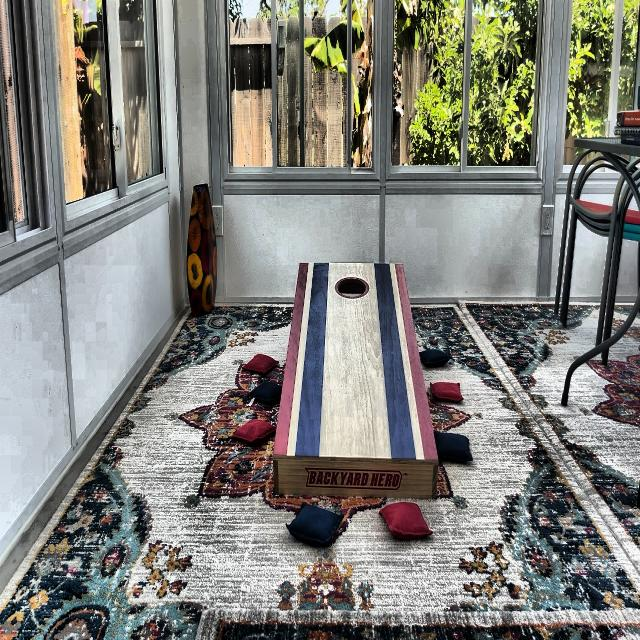blue-bean-bag: (285, 500, 344, 544), (435, 430, 472, 463), (247, 379, 282, 404), (419, 348, 450, 366)
board: (293, 262, 411, 458)
hole: (334, 275, 369, 299)
red-bean-bag: (379, 500, 432, 540), (234, 418, 275, 443), (243, 352, 279, 373), (431, 381, 462, 402)
